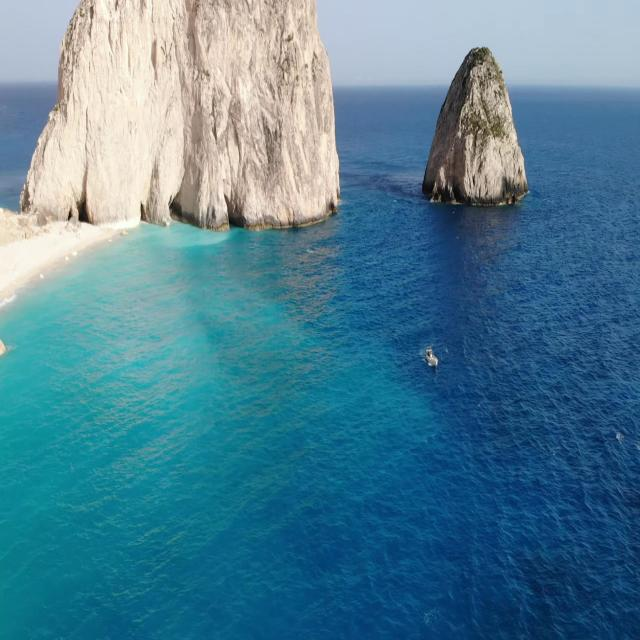boat: (422, 343, 438, 370)
